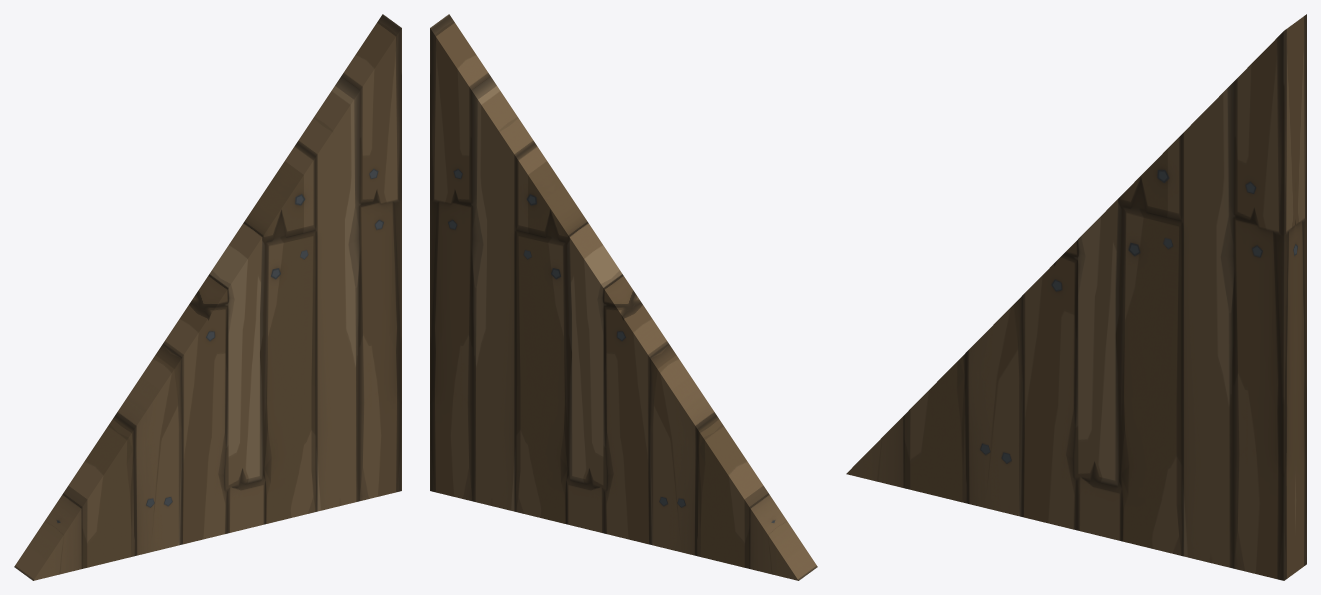
The model's file is SM_Bld_Wall_Angled_01.fbx.
3 renders of one model, left to right at view 1: azimuth 30°, elevation 25°; view 2: azimuth 150°, elevation 25°; view 3: azimuth 330°, elevation 25°, orthographic. The views are drawn at different scales.
Parts seen in each view (by area): view 1: SM_Bld_Wall_Angled_01; view 2: SM_Bld_Wall_Angled_01; view 3: SM_Bld_Wall_Angled_01.
Part boxes in pixels (x1,y1,x2,y2): SM_Bld_Wall_Angled_01: [14, 14, 401, 580]; SM_Bld_Wall_Angled_01: [430, 14, 817, 580]; SM_Bld_Wall_Angled_01: [846, 14, 1306, 580].
Size of the model in its own units: 250 by 300 by 22.5.
